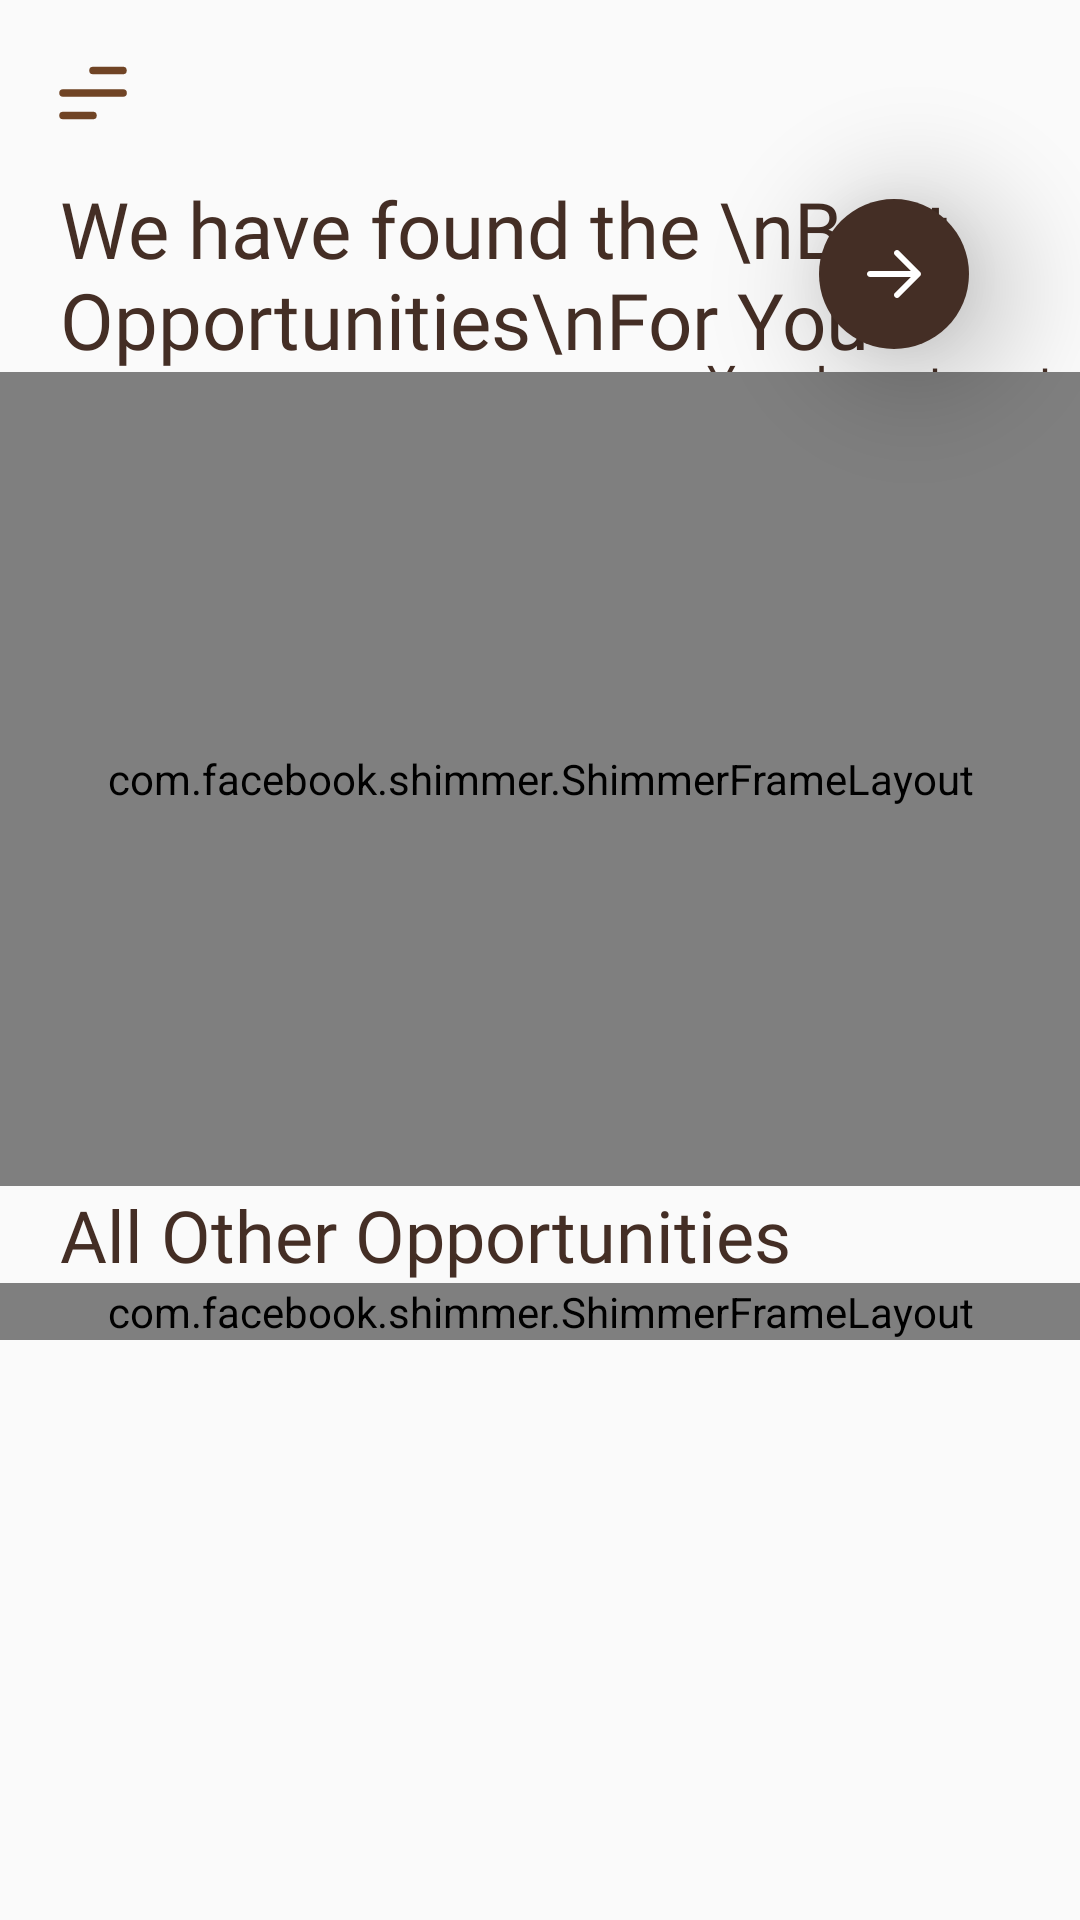

Where to tap for icons on this 1080*1920 app screen, as (x,y):
menu: (93,93)
rightarrow: (894,274)
